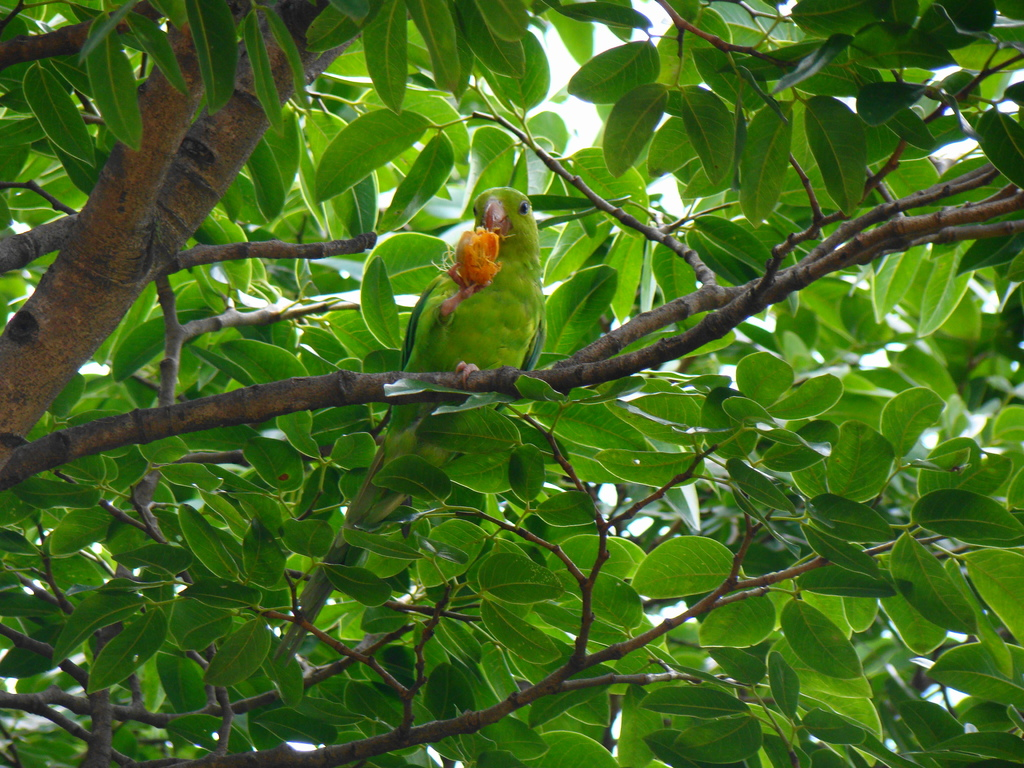Tree: (0, 53, 1024, 737)
